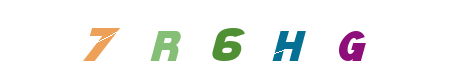6: (192, 0, 272, 80)
7: (77, 0, 157, 80)
G: (312, 0, 392, 80)
H: (249, 0, 329, 80)
R: (161, 0, 241, 80)
